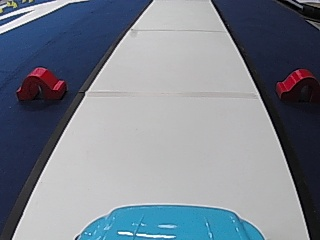bridge: (15, 63, 67, 103), (273, 66, 317, 103)
